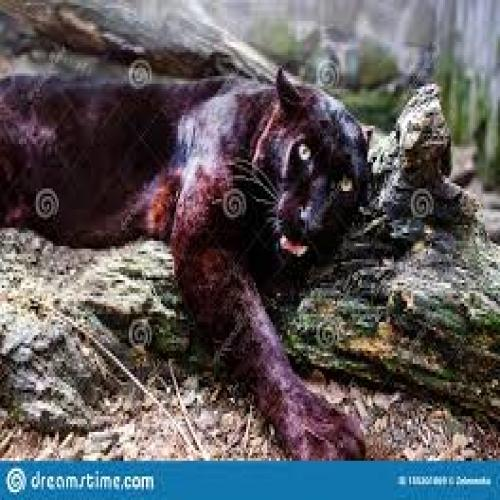panther-endangered: (0, 65, 375, 453)
